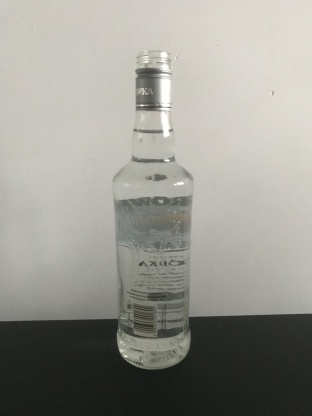nakretka: (133, 48, 173, 111)
